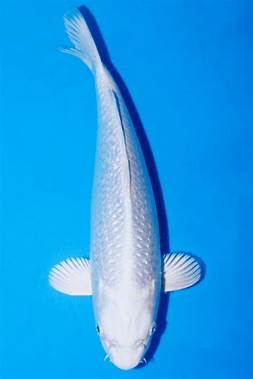white: (48, 8, 203, 370)
